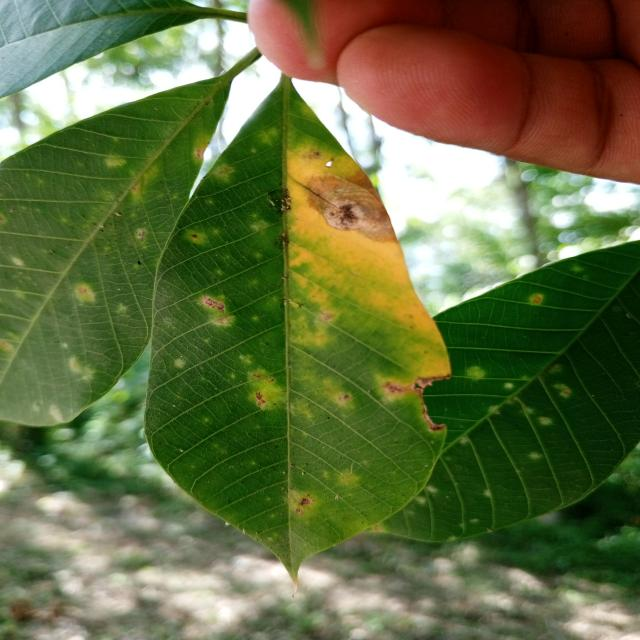Colletotrichum: (296, 508, 303, 514)
Leaf-Blight: (302, 170, 397, 242)
